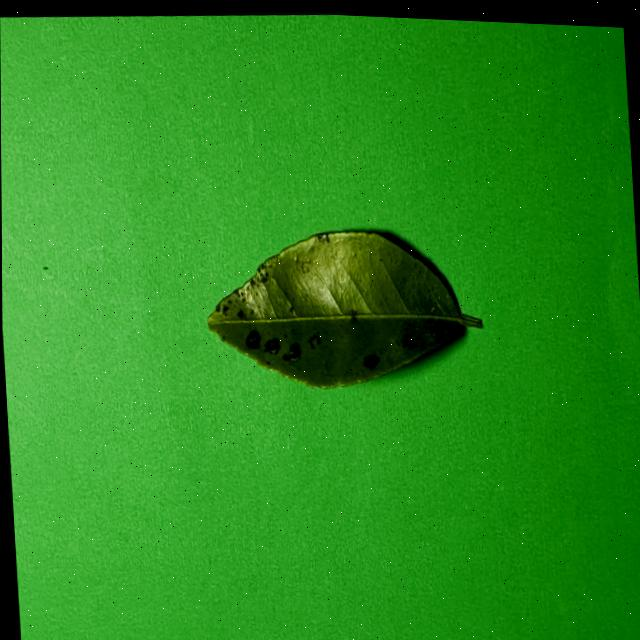sooty_mold: (208, 231, 482, 387)
